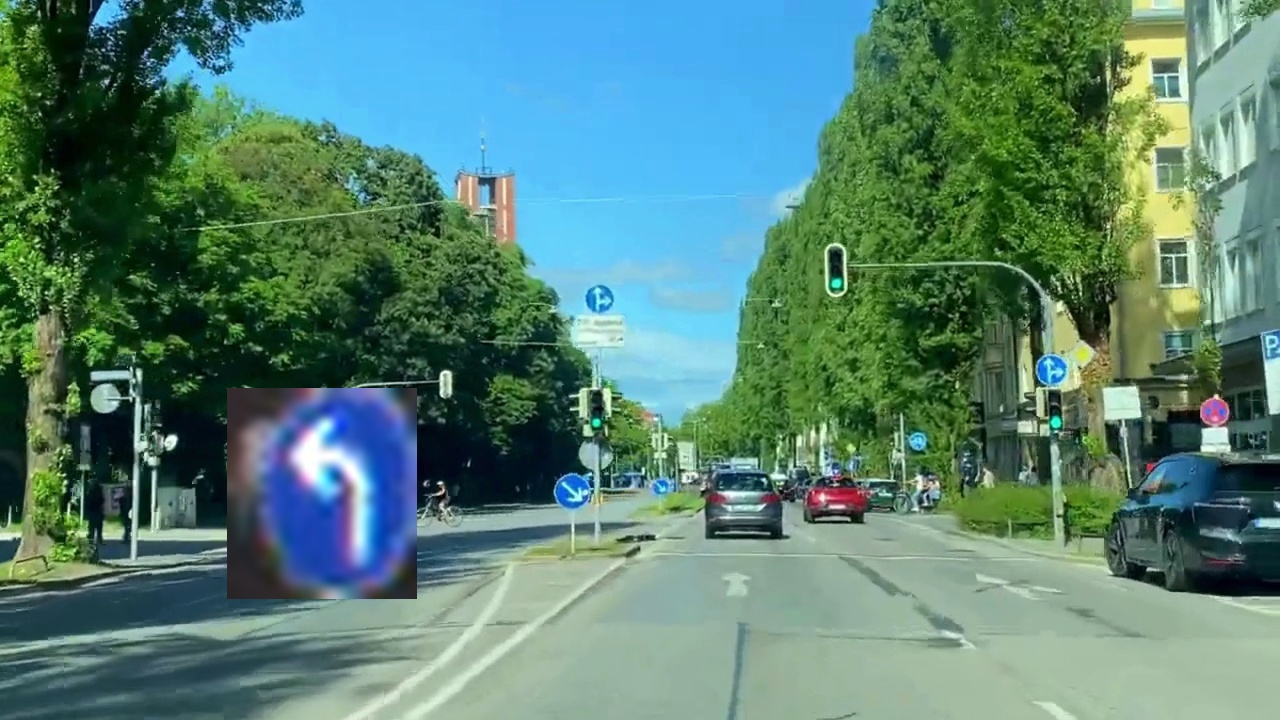Turn left: (227, 388, 417, 599)
